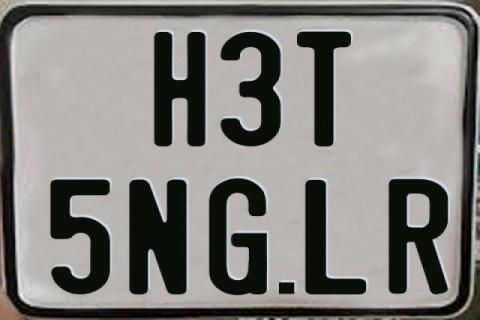0: (218, 31, 285, 149), (47, 180, 112, 296)
G: (208, 178, 272, 294)
H: (153, 31, 207, 145)
L: (303, 177, 364, 293)
N: (129, 177, 189, 293)
R: (389, 179, 449, 297)
T: (297, 29, 354, 145)
